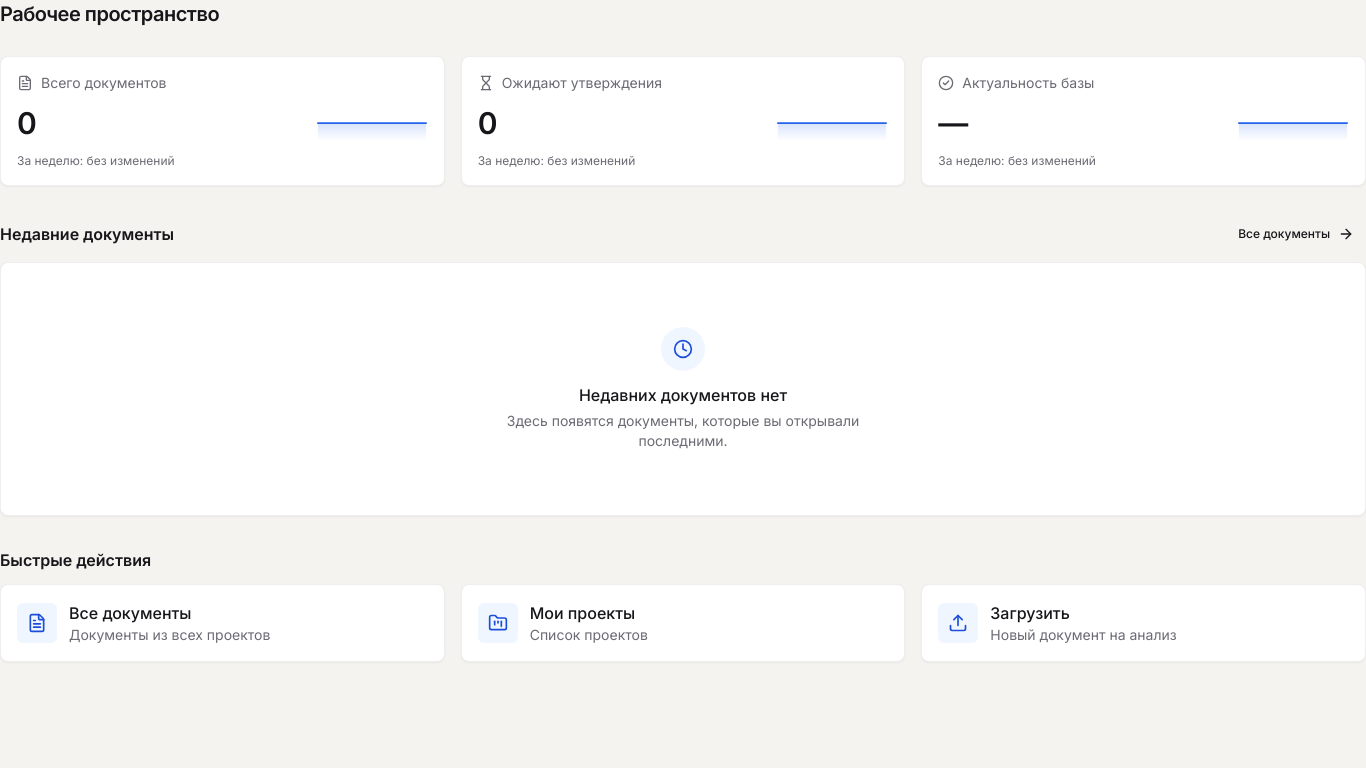
Test: Рабочее пространство › быстрые действия ведут в разделы и открывают загрузку
Click the button "Загрузить Новый документ на анализ": (1144, 623) [921,584,1365,662]
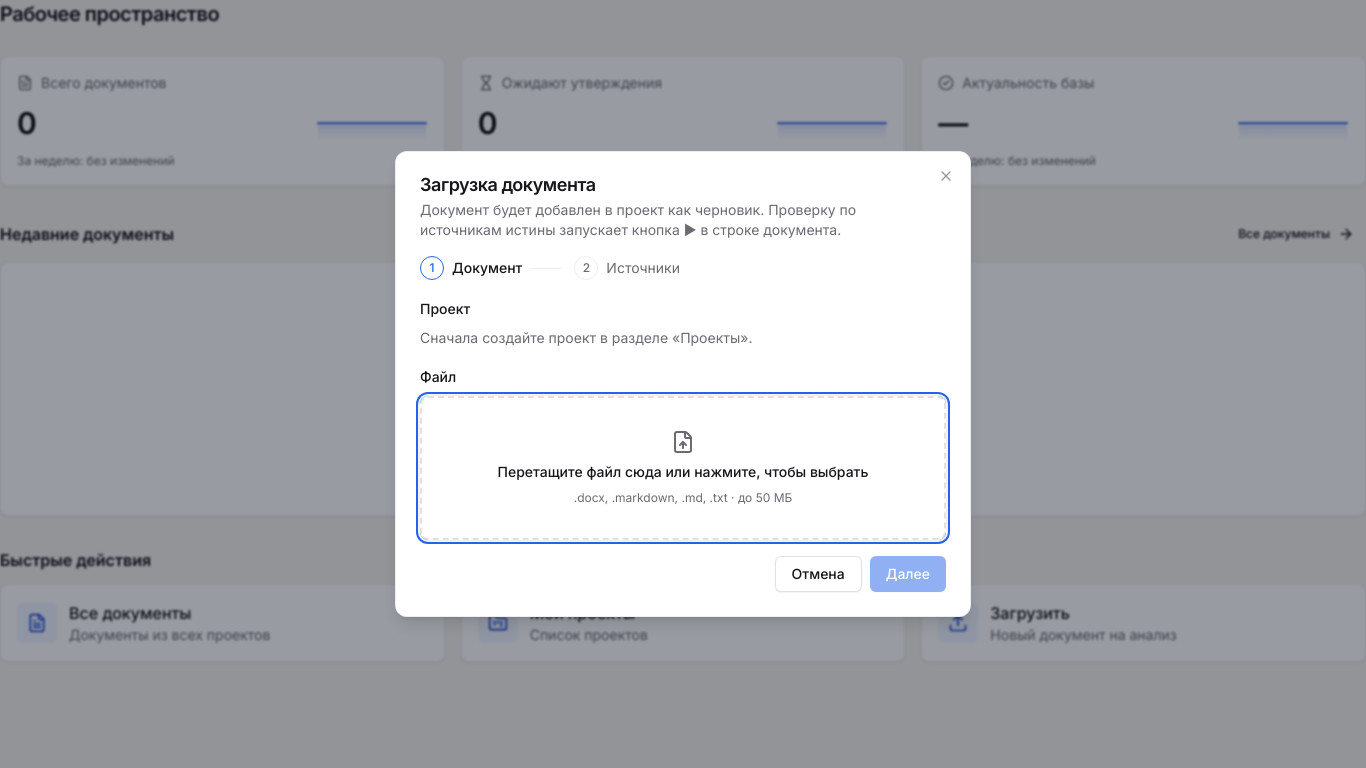
Check: the dialog is shown, box [395,151,971,617]
